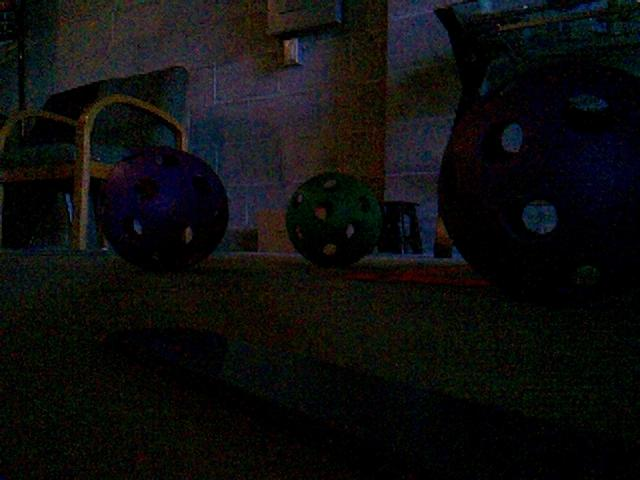Green: (285, 171, 382, 266)
Purple: (438, 61, 640, 297), (99, 148, 230, 270)
